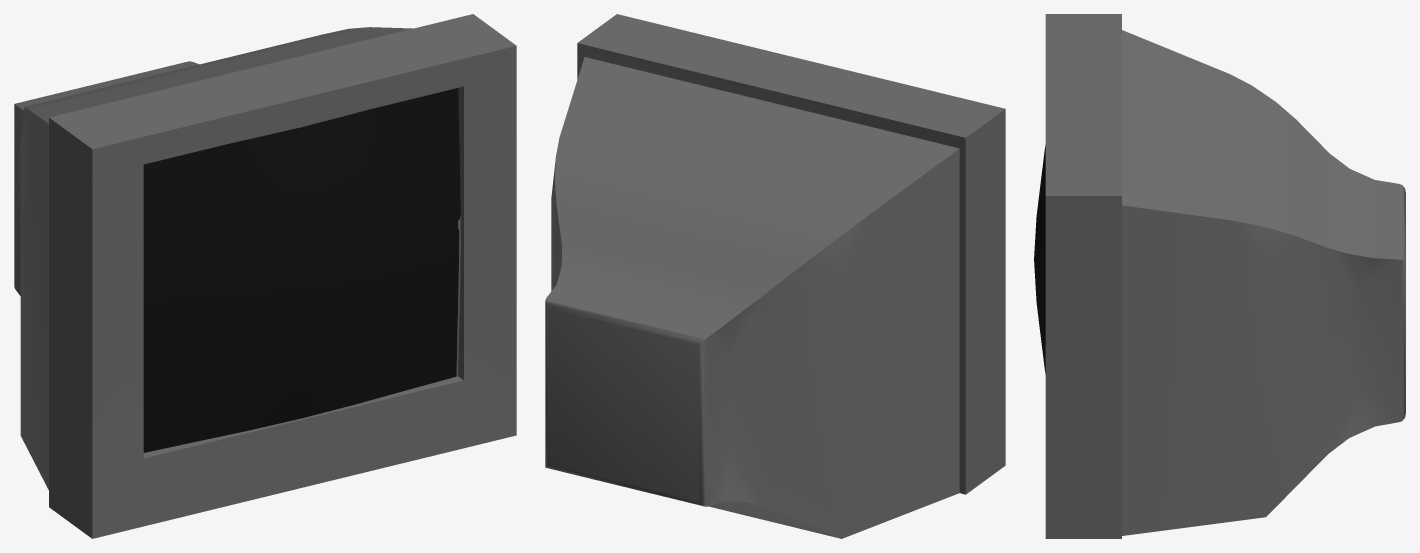
3 views of the same model, side by side, from view 1: azimuth 30°, elevation 25°; view 2: azimuth 150°, elevation 25°; view 3: azimuth 270°, elevation 25° (orthographic). The views are drawn at different scales.
Visible parts, largest first — view 1: TV; view 2: TV; view 3: TV.
Boxes of the visible parts, x1=… form: TV: x1=14, y1=14, x2=516, y2=538; TV: x1=545, y1=14, x2=1005, y2=538; TV: x1=1034, y1=14, x2=1405, y2=538.
Size of the model in its own units: 57.89 by 50.98 by 49.96.
